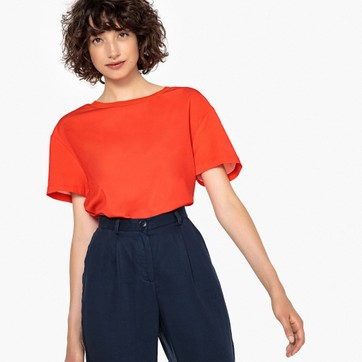C_short blouse: (46, 85, 245, 220)
F_W_pants: (84, 214, 236, 361)
F_belt: (96, 214, 190, 233)
